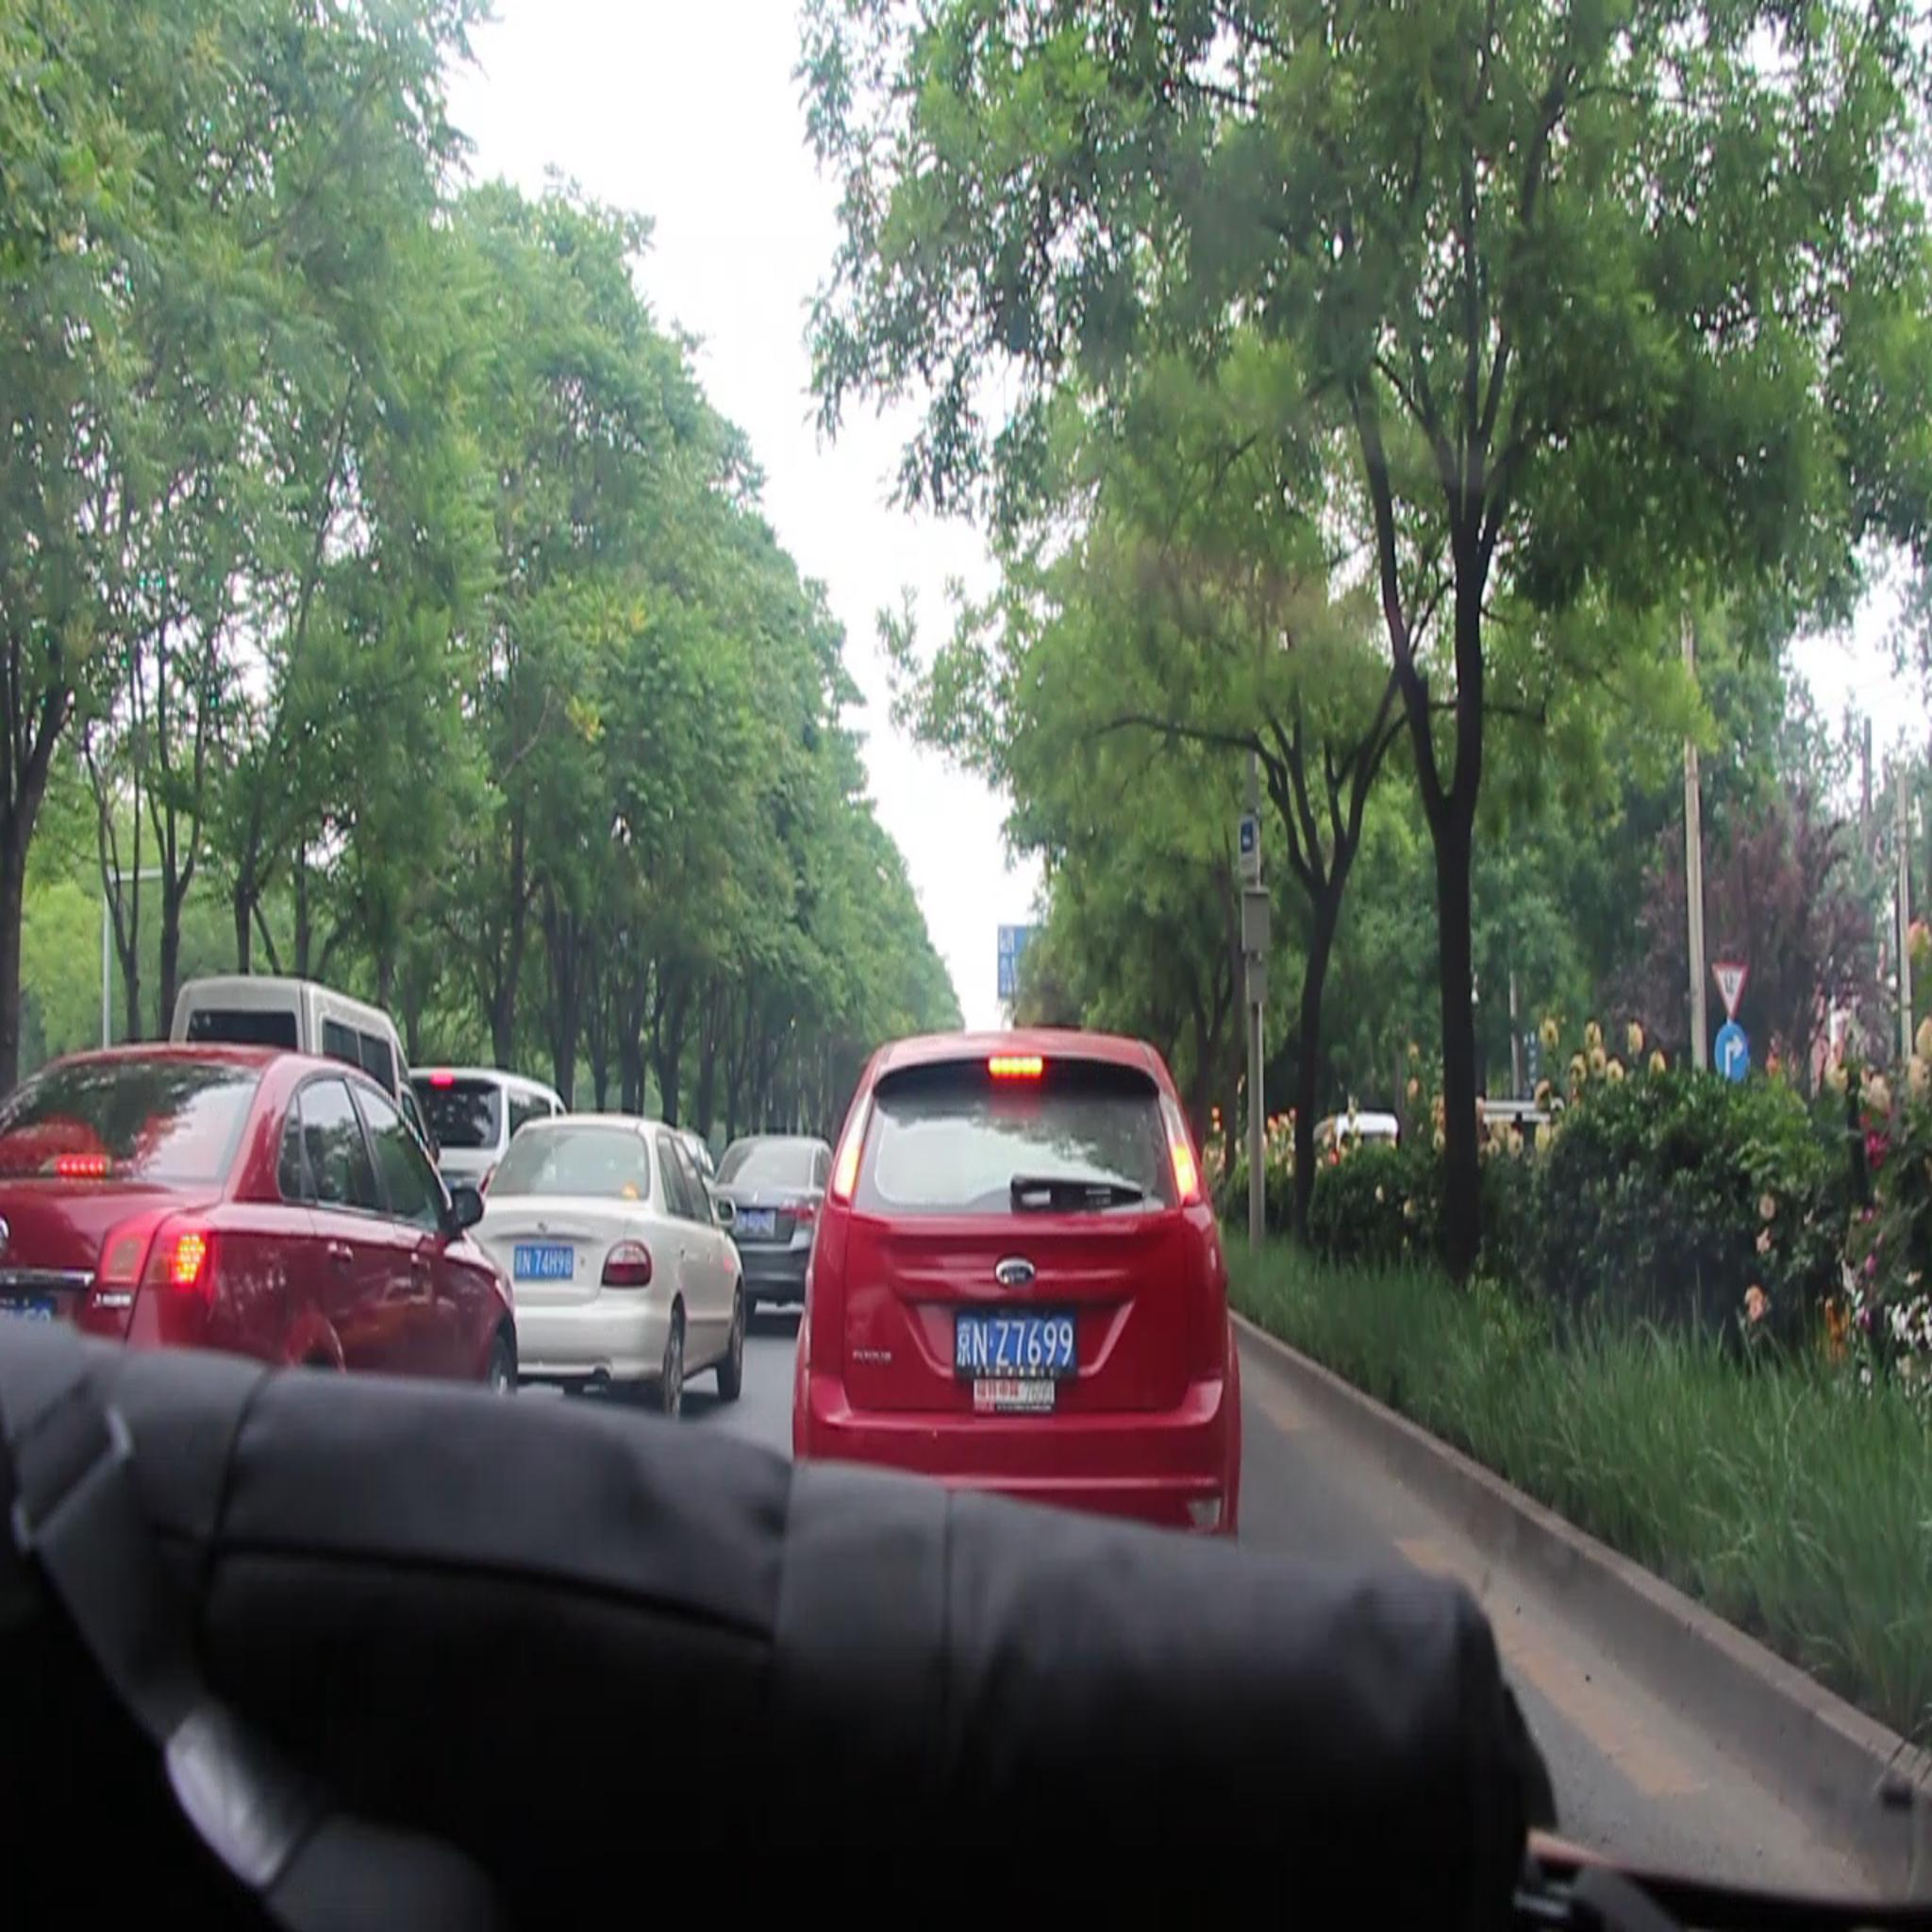pg: (1713, 959, 1746, 1019)
